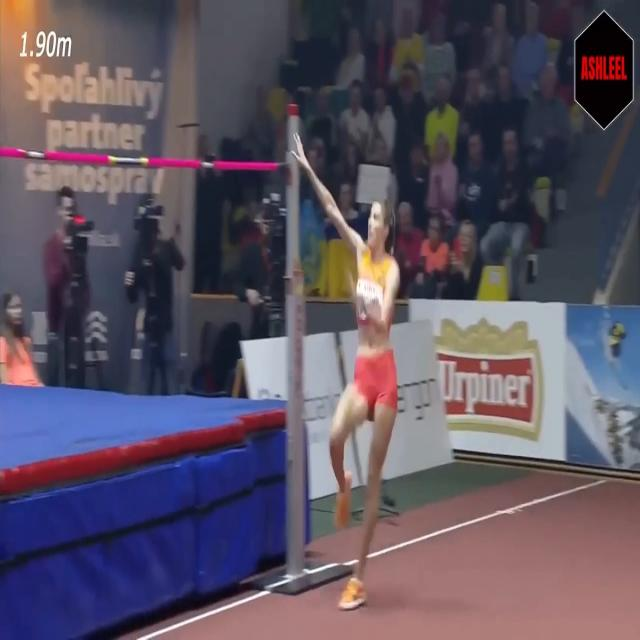jump: (290, 125, 398, 611)
